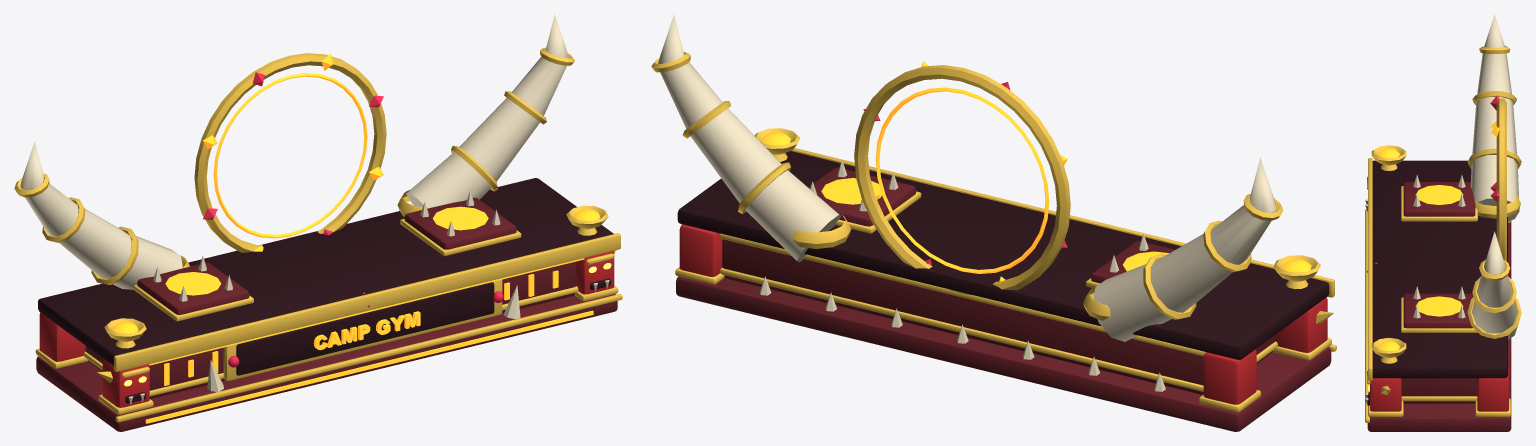
Rendered from st_15_primal.glb.
The picture shows the model from 3 angles, left to right: view 1: azimuth 30°, elevation 25°; view 2: azimuth 150°, elevation 25°; view 3: azimuth 270°, elevation 25°; orthographic projection. The views are drawn at different scales.
Parts seen in each view (by area): view 1: st_15_primal; view 2: st_15_primal; view 3: st_15_primal.
Boxes of the visible parts, left/top/right/bottom form: st_15_primal: left=14, top=14, right=622, bottom=431; st_15_primal: left=651, top=14, right=1336, bottom=431; st_15_primal: left=1365, top=14, right=1521, bottom=431.
Bounding box in the file's own units: 11.43 × 5.1 × 3.27.
